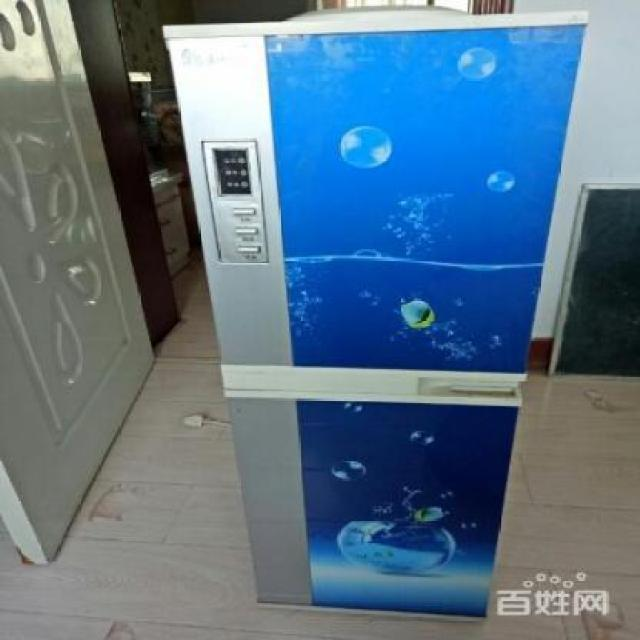cooler: (155, 7, 583, 626)
